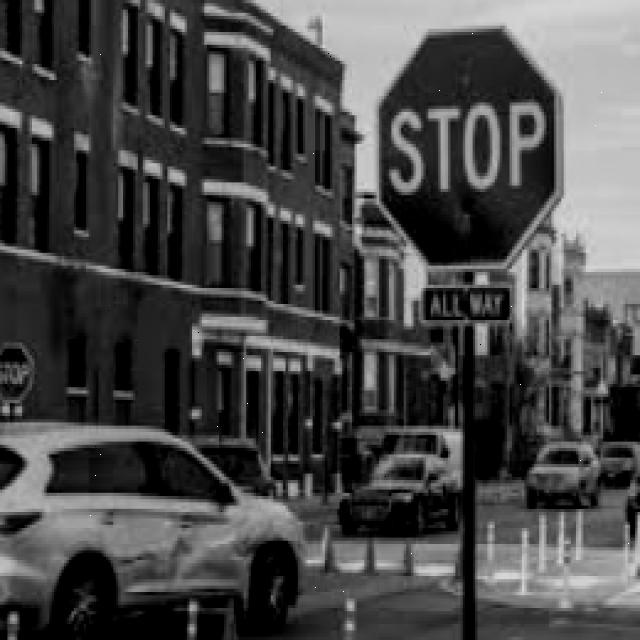Stop-signs: (377, 25, 564, 270)
